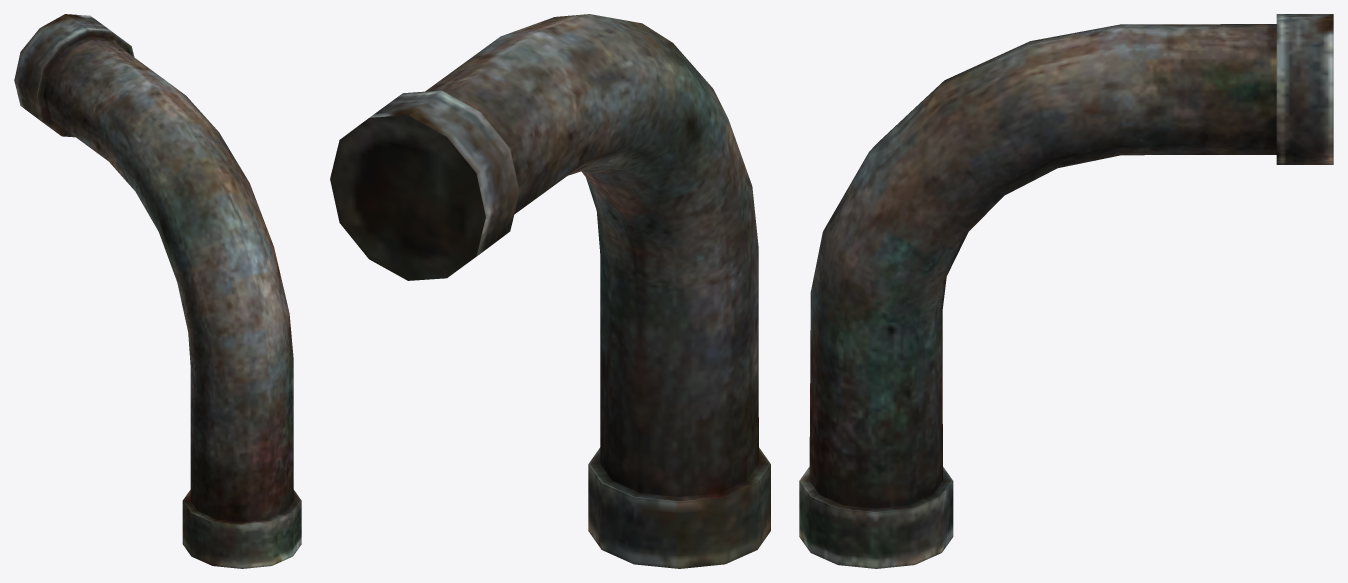
Rendered from pipe_medium2_90_pplant.dae.
3 views of the same model, side by side, from view 1: azimuth 30°, elevation 25°; view 2: azimuth 150°, elevation 25°; view 3: azimuth 270°, elevation 25° (orthographic). The views are drawn at different scales.
Visible parts, largest first — view 1: pipe_medium2_90_pplant; view 2: pipe_medium2_90_pplant; view 3: pipe_medium2_90_pplant.
Part boxes in pixels (x1,y1,x2,y2): pipe_medium2_90_pplant: [14, 14, 301, 568]; pipe_medium2_90_pplant: [330, 14, 770, 568]; pipe_medium2_90_pplant: [799, 14, 1333, 568].
Bounding box in the file's own units: 0.2485 × 0.936 × 0.8762.
